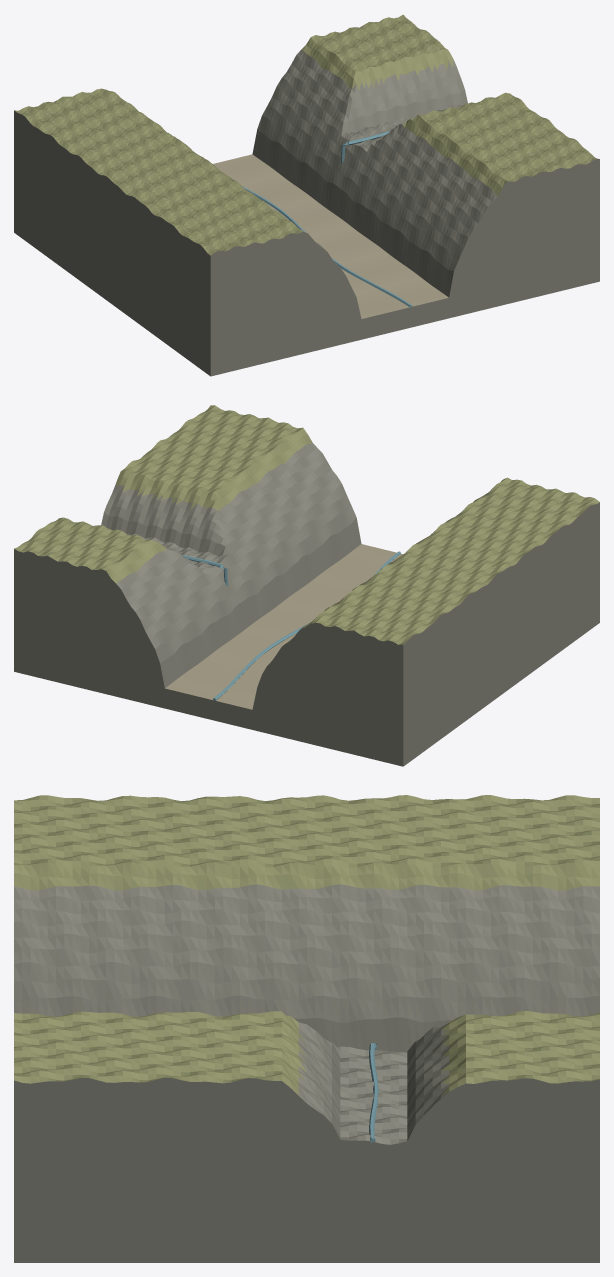
The picture shows the model from 3 angles, top to bottom: view 1: azimuth 30°, elevation 25°; view 2: azimuth 150°, elevation 25°; view 3: azimuth 270°, elevation 25°; orthographic projection. The views are drawn at different scales.
Parts seen in each view (by area): view 1: solid_main_trough_and_elevated_tributary, main_valley_stream; view 2: solid_main_trough_and_elevated_tributary, main_valley_stream; view 3: solid_main_trough_and_elevated_tributary.
Part boxes in pixels (x1,y1,x2,y2): solid_main_trough_and_elevated_tributary: (14, 14, 599, 376); main_valley_stream: (242, 186, 412, 308); solid_main_trough_and_elevated_tributary: (14, 405, 599, 766); main_valley_stream: (213, 551, 400, 700); solid_main_trough_and_elevated_tributary: (14, 795, 599, 1262).
Size of the model in its own units: 80.02 by 24.43 by 70.02.
